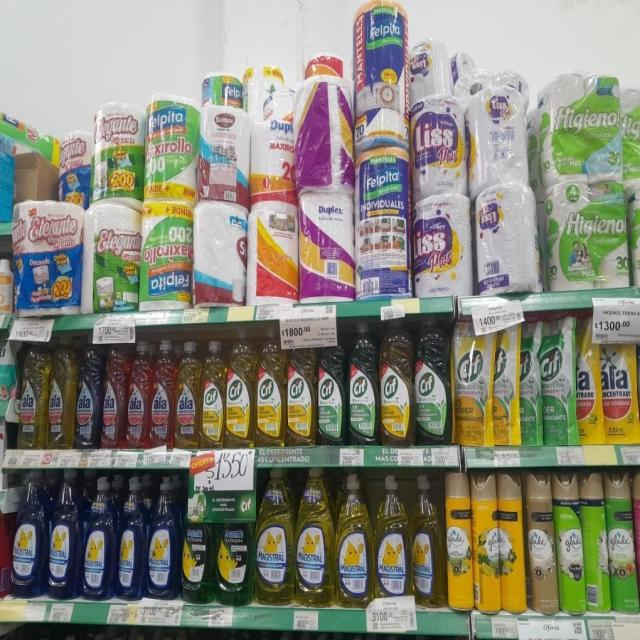ala_conc_amarillo: (18, 336, 47, 449), (48, 334, 75, 450), (175, 339, 200, 450)
ala_conc_azul: (76, 334, 100, 451)
ala_conc_rojo: (150, 338, 174, 450), (102, 338, 125, 450), (126, 340, 149, 450)
cif_conc_bot_amarilla: (380, 315, 412, 447), (286, 332, 316, 447), (256, 326, 284, 448), (226, 327, 253, 448), (200, 339, 224, 448)
cif_conc_botella_verde: (414, 314, 450, 446), (348, 320, 378, 446), (317, 326, 346, 445)
cif_conc_sachet_amarillo: (452, 317, 491, 446), (492, 318, 518, 446)
magistral_con_amarillo: (254, 468, 294, 606), (295, 467, 334, 607), (336, 471, 372, 608), (374, 473, 410, 599), (411, 472, 444, 608)
magistral_con_azul: (11, 469, 45, 598), (82, 475, 114, 601), (147, 475, 179, 601), (48, 469, 79, 599), (117, 476, 145, 601)
